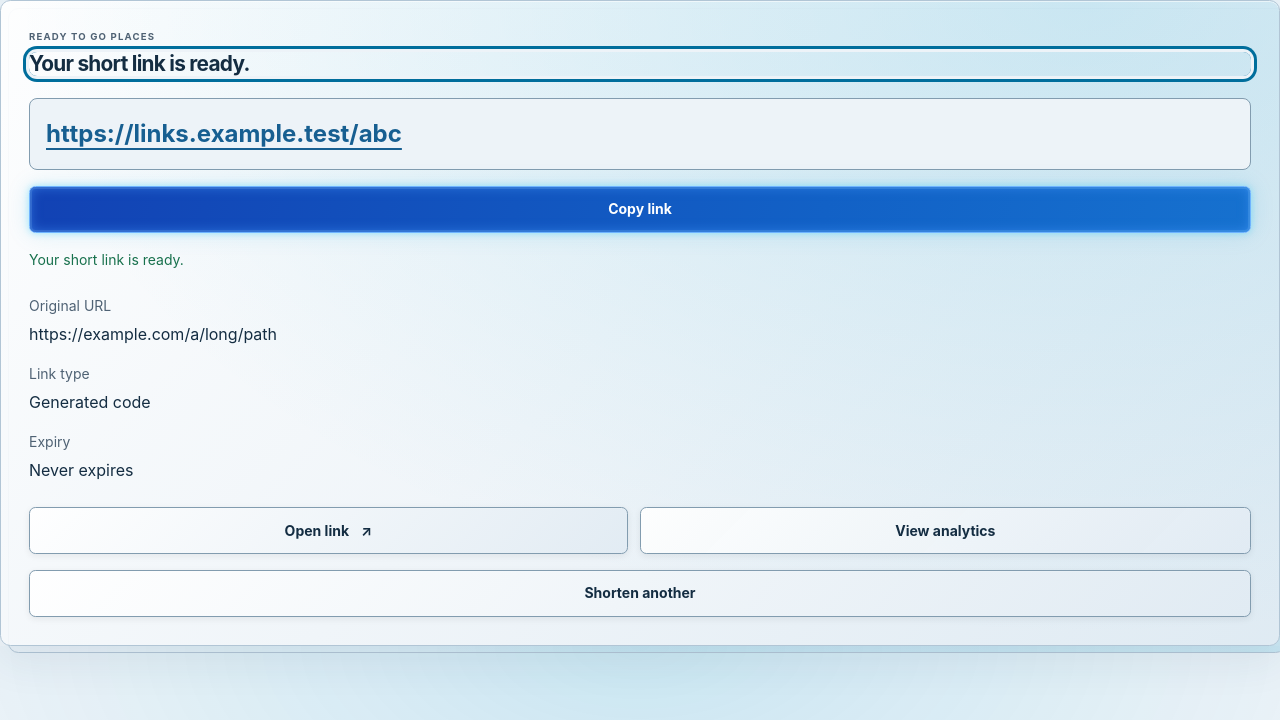
Test case: CreationResult_copySupported_copiesShortUrlAndConfirms
Click the button "Copy link": (640, 210) [29,186,1251,233]
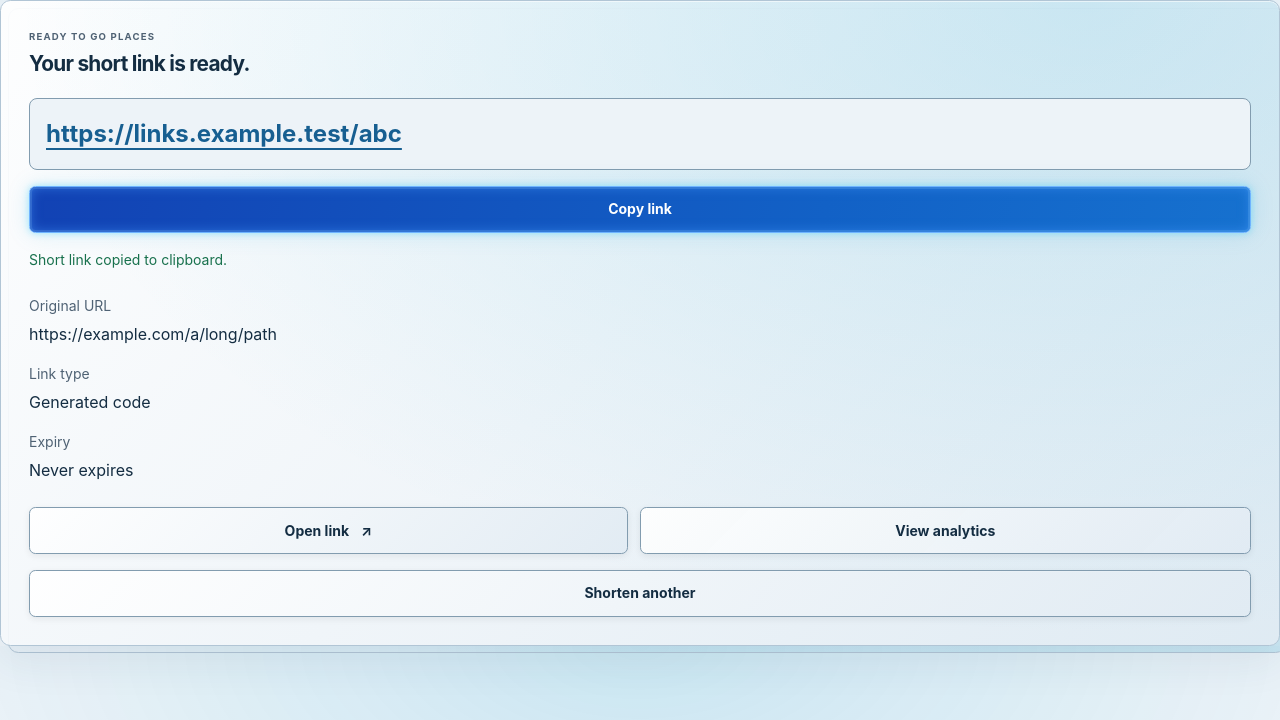
Now the message reads "Short link copied to clipboard.", box [29,251,227,268]
